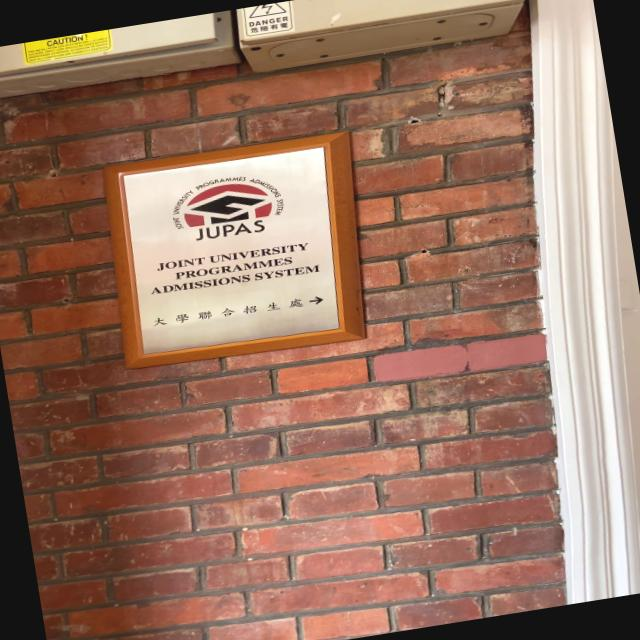jupasOffice: (94, 120, 384, 382)
